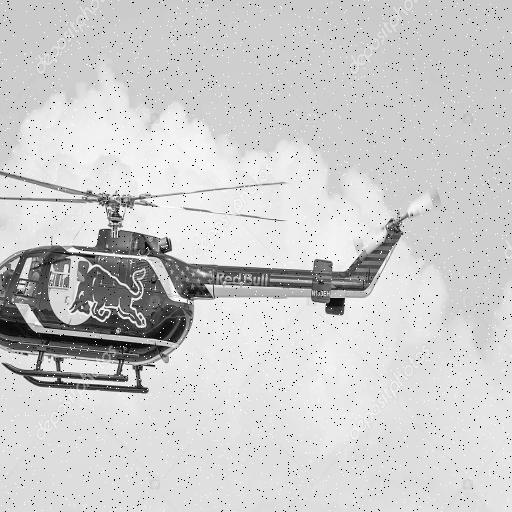helicopter: (1, 157, 445, 390)
